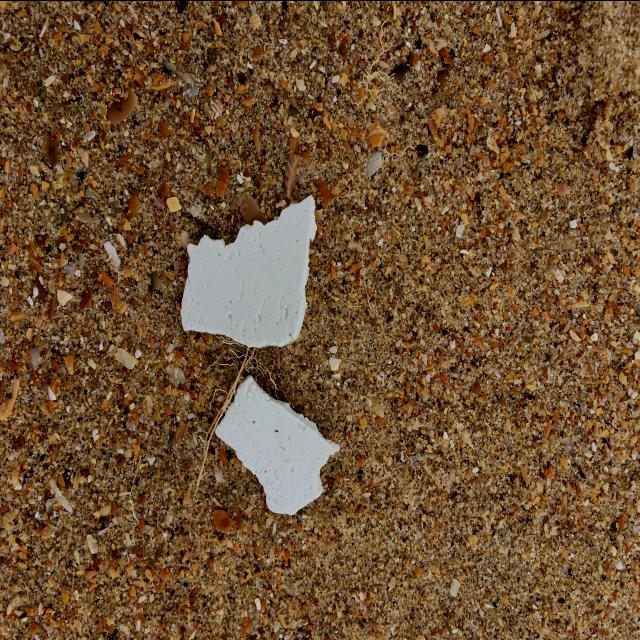Styrofoam piece: (180, 193, 318, 348), (215, 374, 341, 514)
